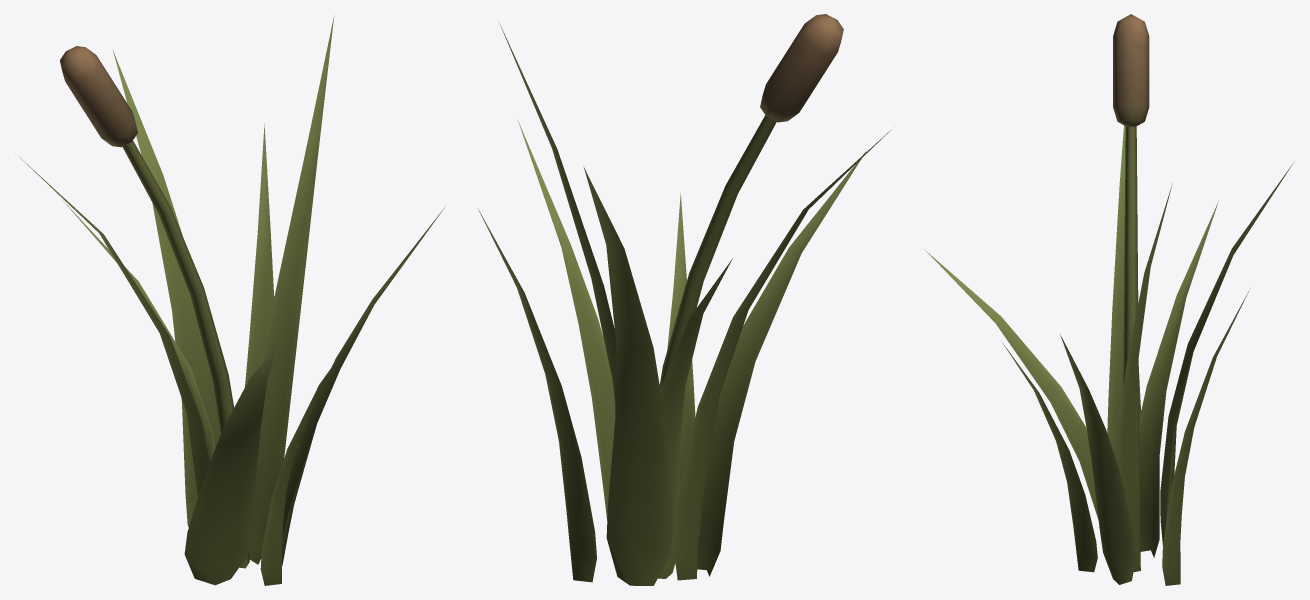
File: SM_Reed_2.FBX
The picture shows the model from 3 angles, left to right: view 1: azimuth 30°, elevation 25°; view 2: azimuth 150°, elevation 25°; view 3: azimuth 270°, elevation 25°; orthographic projection. The views are drawn at different scales.
Visible parts, largest first — view 1: Reed 2; view 2: Reed 2; view 3: Reed 2.
Boxes of the visible parts, x1,y1,x2,y2 form: Reed 2: (15,15,445,585); Reed 2: (478,14,891,585); Reed 2: (924,14,1294,585).
Size of the model in its own units: 107 by 146 by 102.
